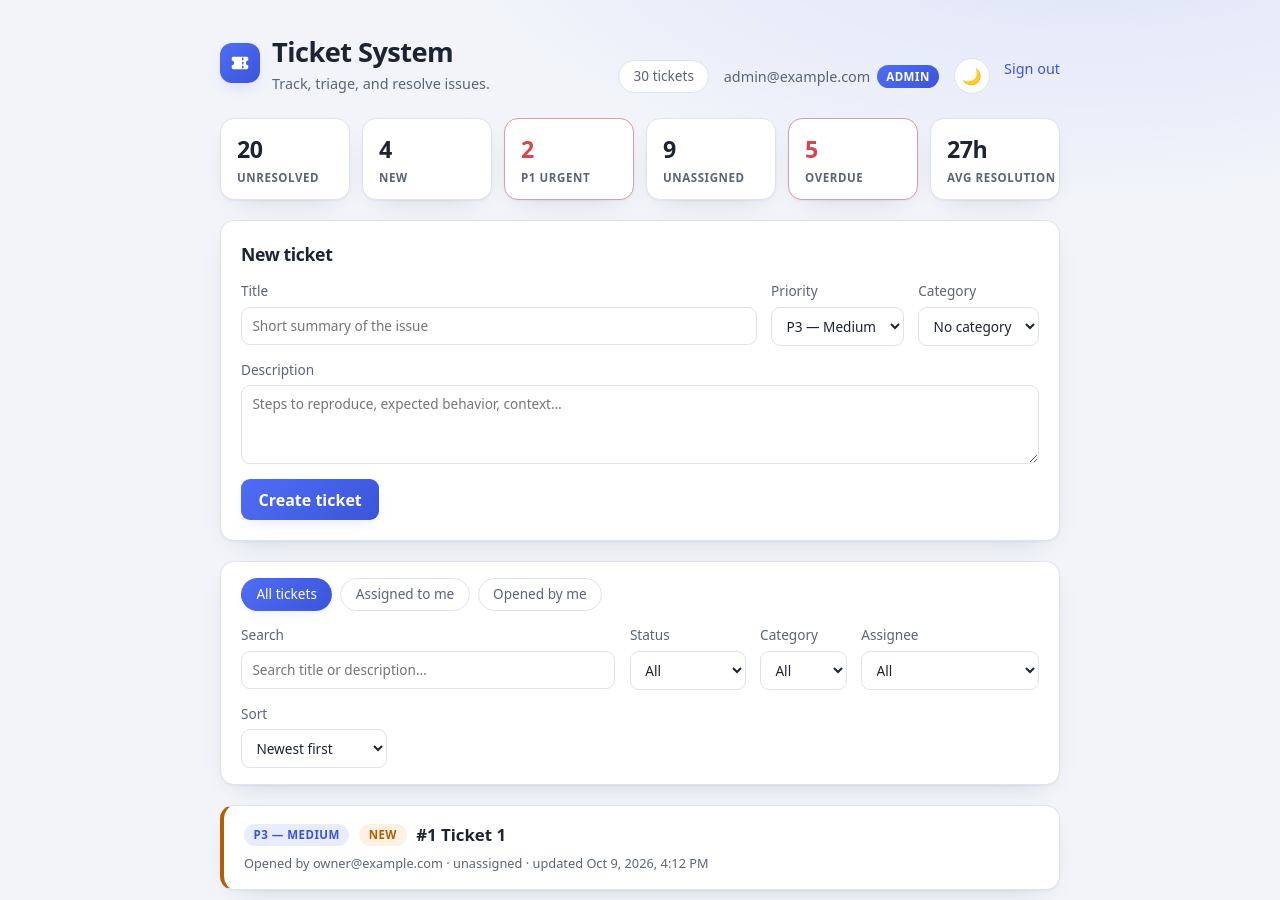
it: stale-response guard › ignores a slow earlier response that arrives after a newer one
Expected: the heading "#1 Ticket 1" is shown, [416,822,506,847]
Select "Open" in the dropdown labelled "Status": (688, 670) [630,650,746,690]
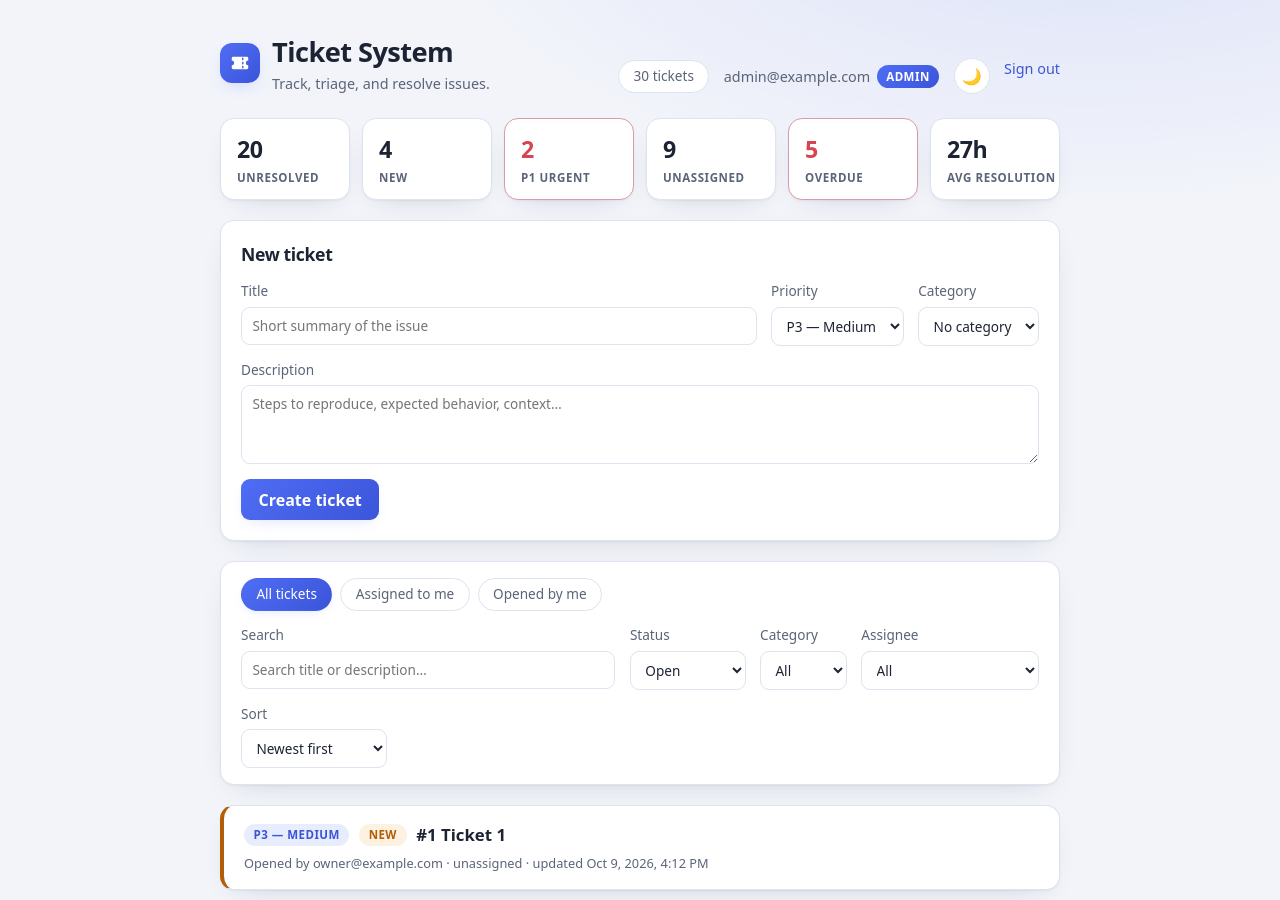
Select "Closed" in the dropdown labelled "Status": (688, 670) [630,650,746,690]
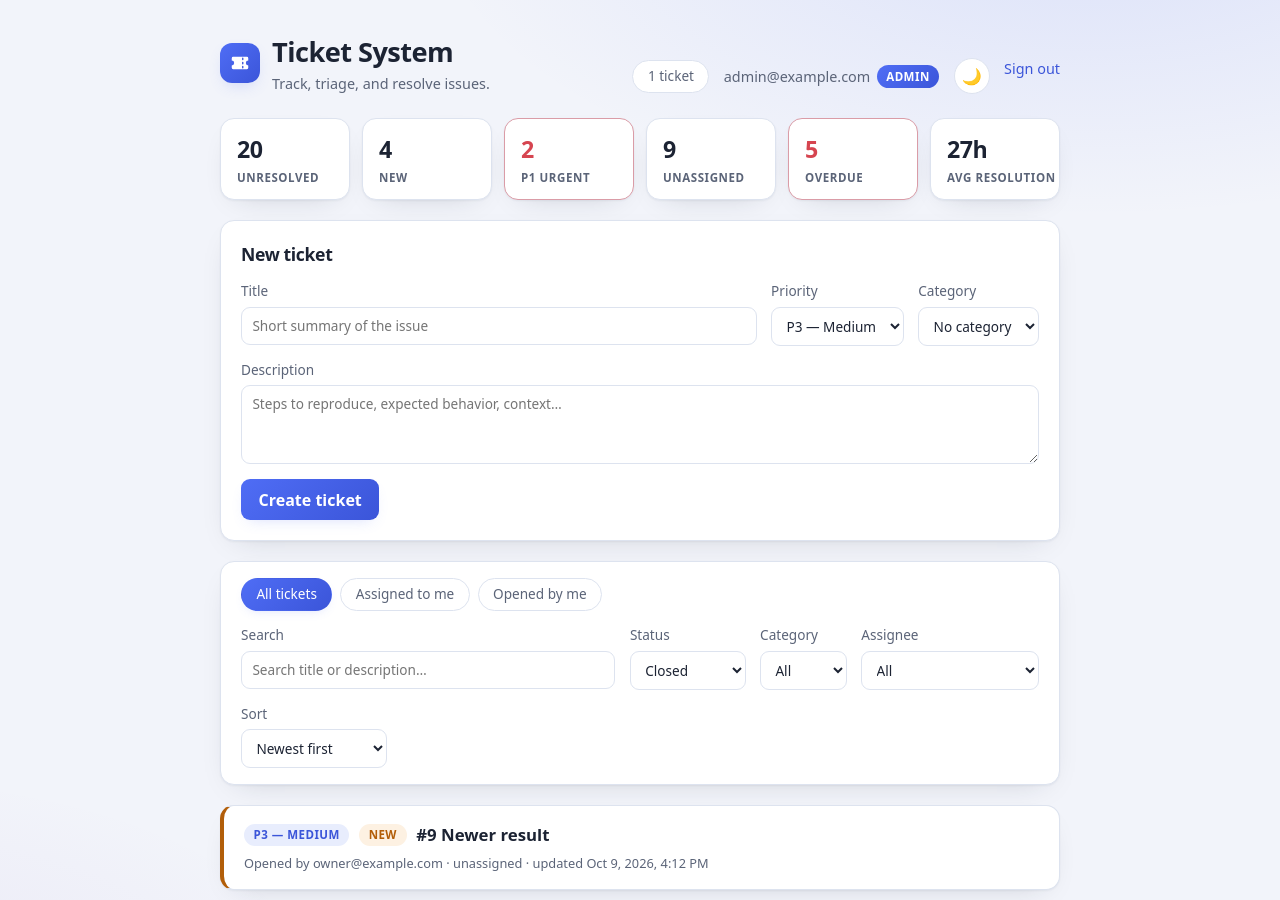
Expected: the heading "#9 Newer result" is shown, [416,822,550,847]
